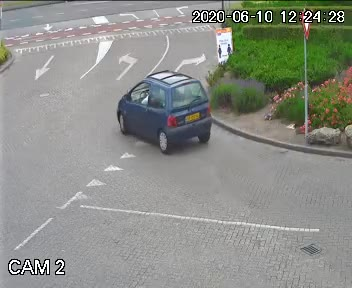car: (106, 66, 215, 158)
